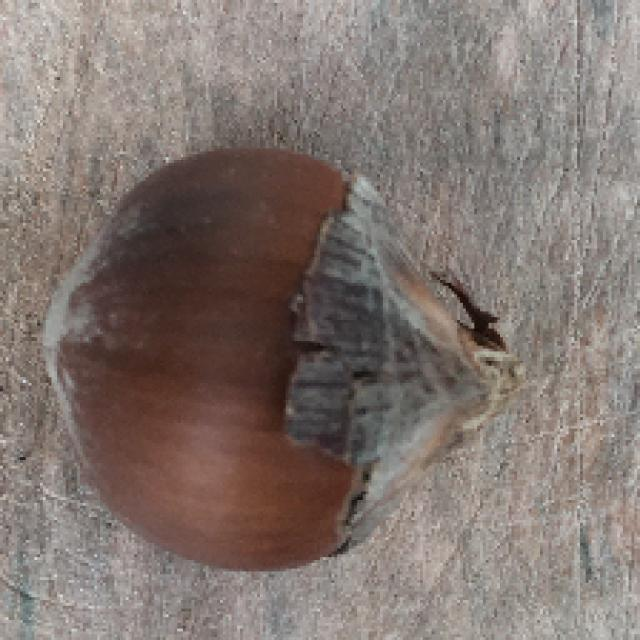damagedHazelnut: (44, 139, 521, 582)
